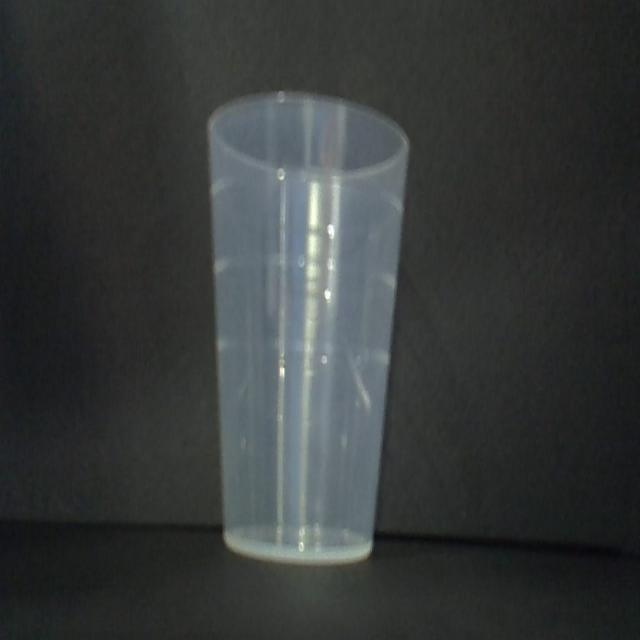cup: (205, 88, 412, 562)
